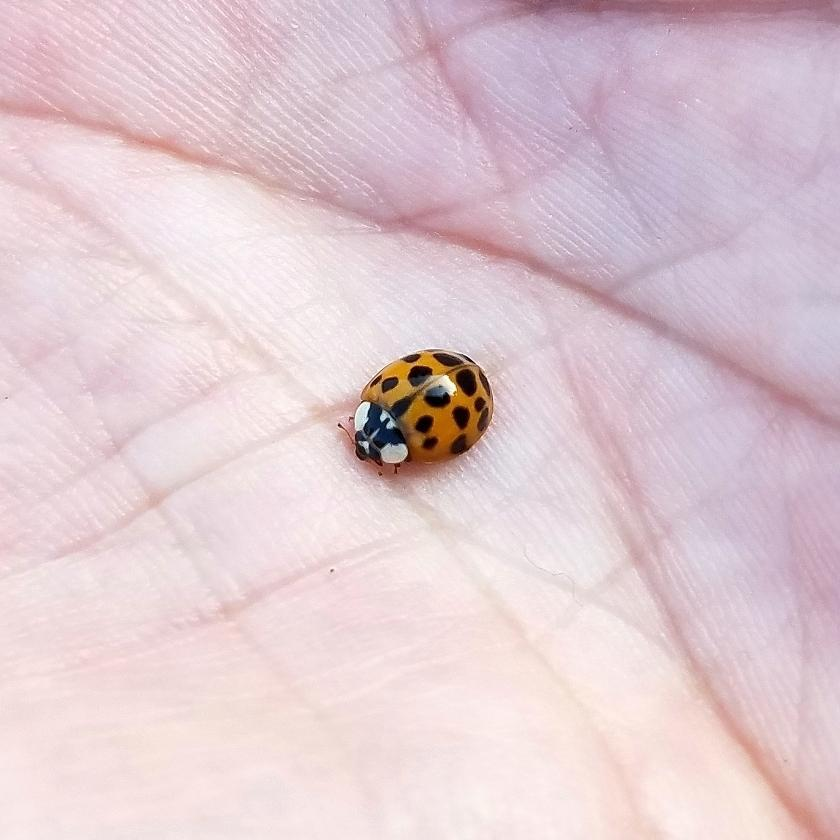ladybug: (336, 346, 501, 481)
